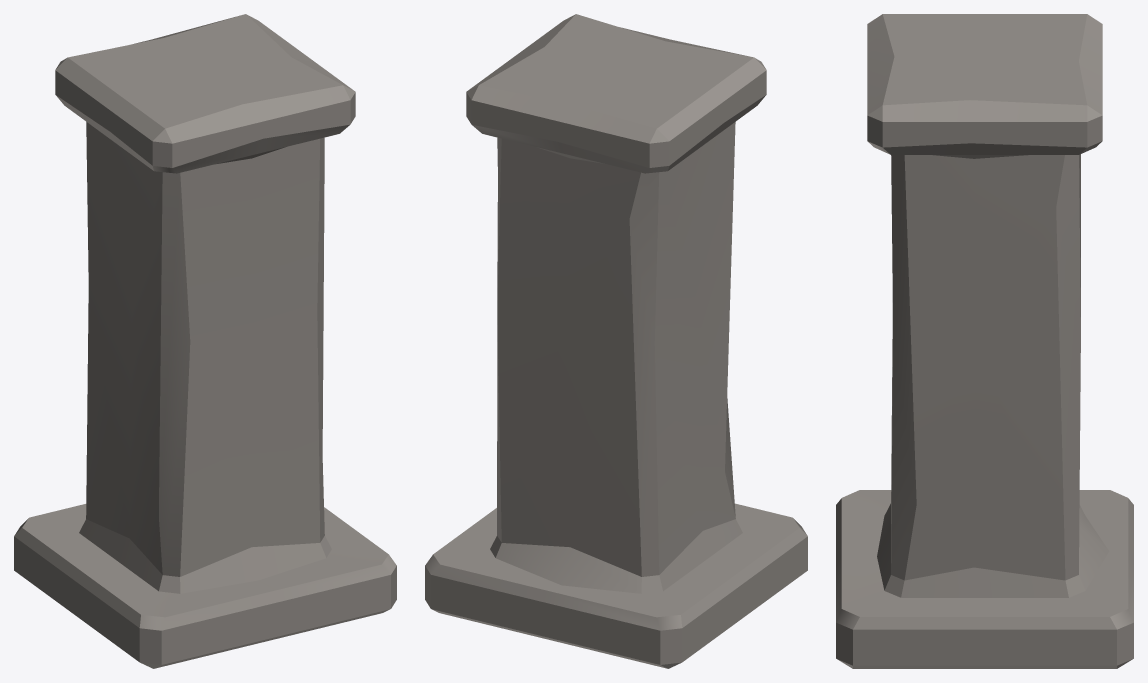
Rendered from SM_Env_Bridge_Pillar_01.fbx.
3 renders of one model, left to right at view 1: azimuth 30°, elevation 25°; view 2: azimuth 150°, elevation 25°; view 3: azimuth 270°, elevation 25°, orthographic. The views are drawn at different scales.
Parts seen in each view (by area): view 1: SM_Env_Bridge_Pillar_01; view 2: SM_Env_Bridge_Pillar_01; view 3: SM_Env_Bridge_Pillar_01.
Boxes of the visible parts, box(x1,y1,x2,y2) form: SM_Env_Bridge_Pillar_01: box(14, 14, 396, 668); SM_Env_Bridge_Pillar_01: box(425, 14, 807, 668); SM_Env_Bridge_Pillar_01: box(836, 14, 1133, 668).
Size of the model in its own units: 96.36 by 187 by 91.94.
